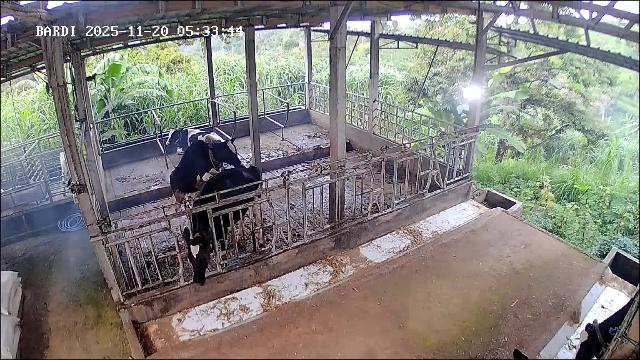mounting: (168, 138, 244, 219)
